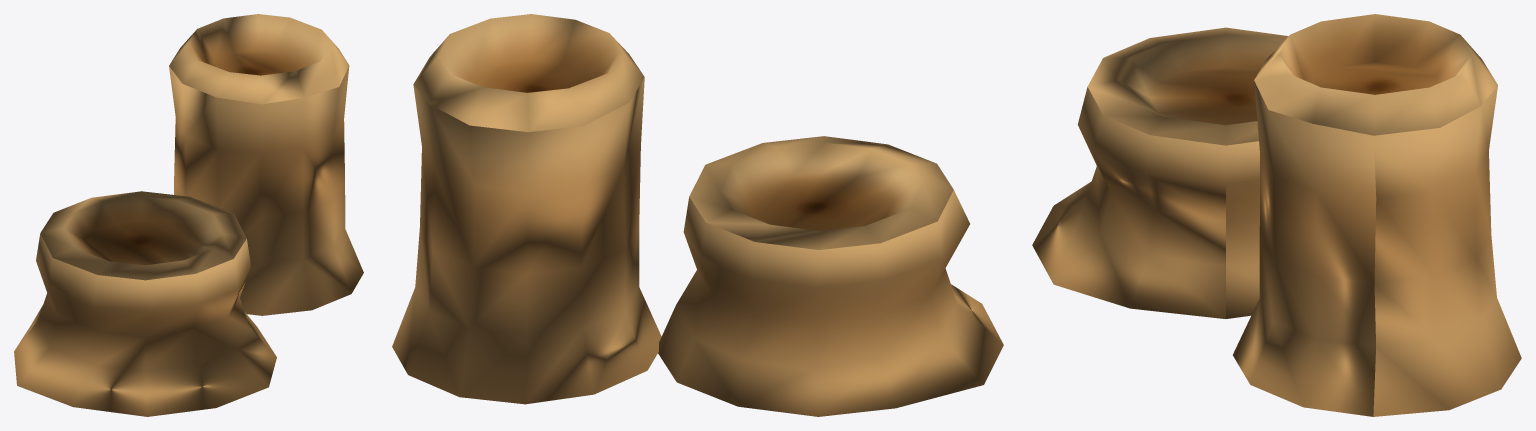
Rendered from FloorDeco1B-005_02_20_1595.fbx.
3 renders of one model, left to right at view 1: azimuth 30°, elevation 25°; view 2: azimuth 150°, elevation 25°; view 3: azimuth 270°, elevation 25°, orthographic. The views are drawn at different scales.
Parts seen in each view (by area): view 1: PropCandles1, PropCandles1 (2); view 2: PropCandles1 (2), PropCandles1; view 3: PropCandles1 (2), PropCandles1.
Part boxes in pixels (x1,y1,x2,y2): PropCandles1: [14, 191, 276, 416]; PropCandles1 (2): [169, 14, 363, 315]; PropCandles1 (2): [392, 14, 661, 404]; PropCandles1: [658, 136, 1003, 416]; PropCandles1 (2): [1233, 14, 1521, 416]; PropCandles1: [1032, 27, 1288, 318].
Size of the model in its own units: 1.2 by 0.6714 by 0.98.
